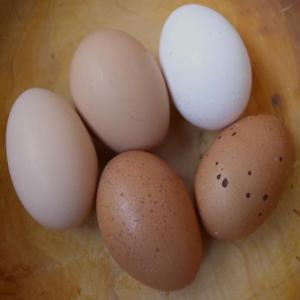Egg: (82, 140, 210, 294), (145, 1, 265, 134), (184, 106, 295, 246), (64, 25, 176, 163), (5, 82, 100, 235)
